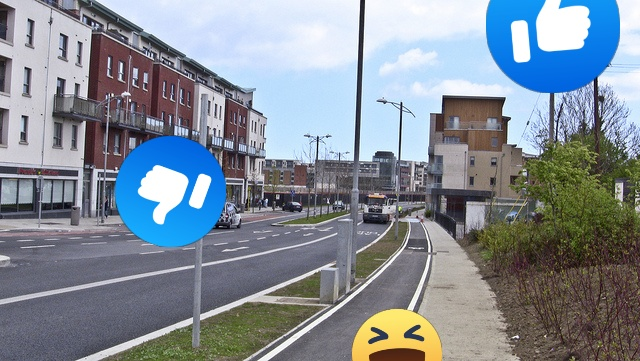haha: (352, 309, 442, 361)
like: (486, 0, 620, 93), (115, 136, 226, 247)
